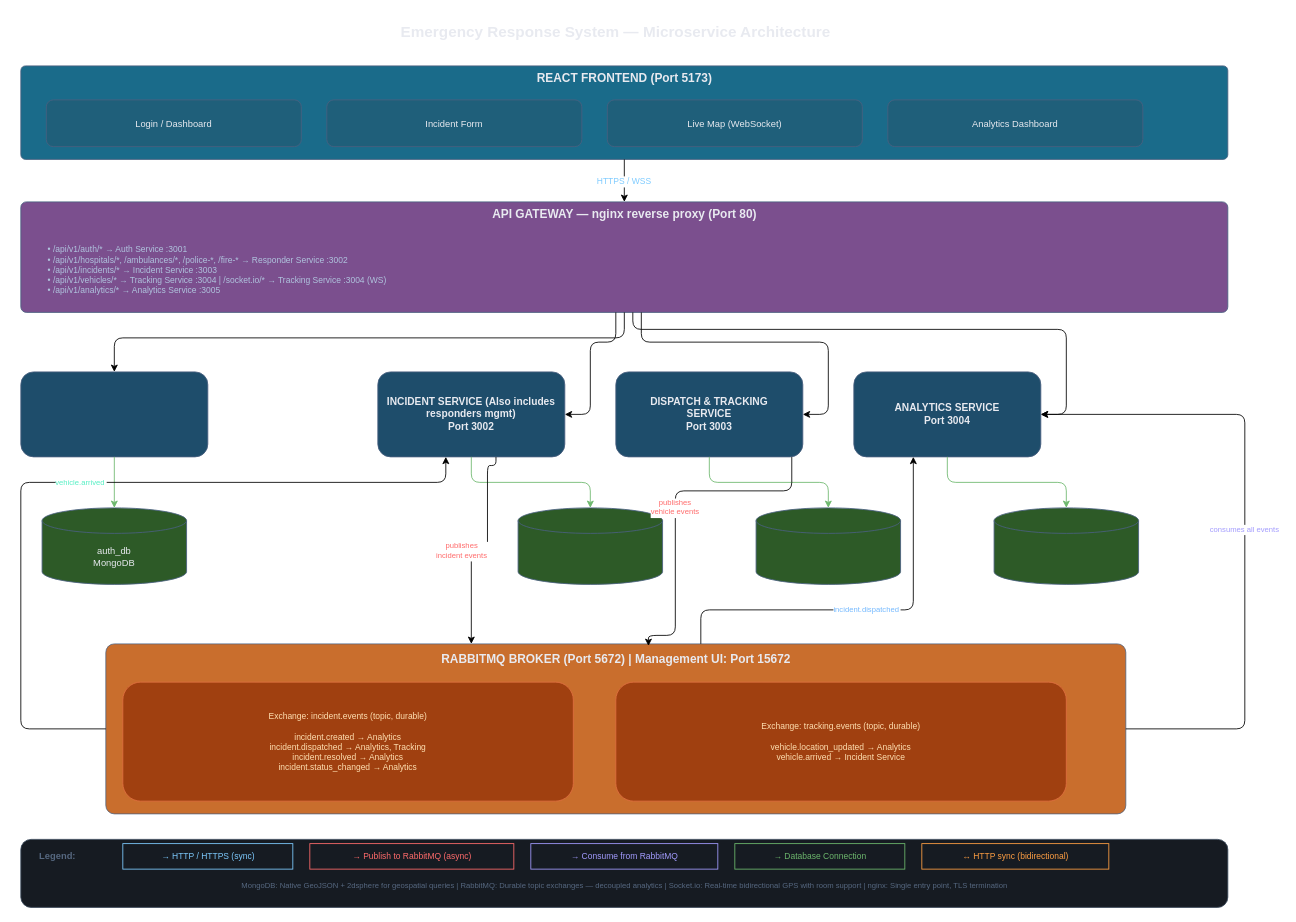
Some shapes in this 1296 by 922 pixel diagram are drawn without their labels. The shapes that lost their labels are listed below. From the top down, each one's centre as x and y in pixels, then its label:
point (114, 414): AUTH SERVICE Port 3001
point (590, 545): incident_db MongoDB
point (828, 545): tracking_db MongoDB
point (1066, 545): analytics_db MongoDB
